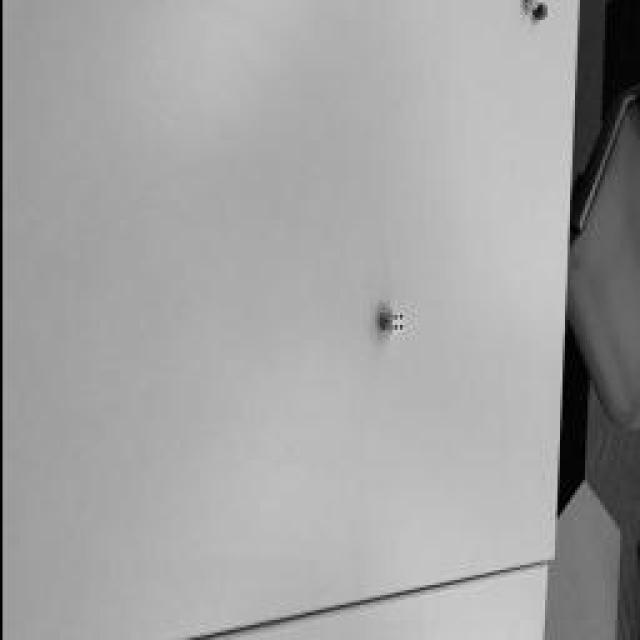dice_4: (390, 312, 400, 332)
dice_6: (540, 4, 545, 16), (530, 0, 538, 5)
